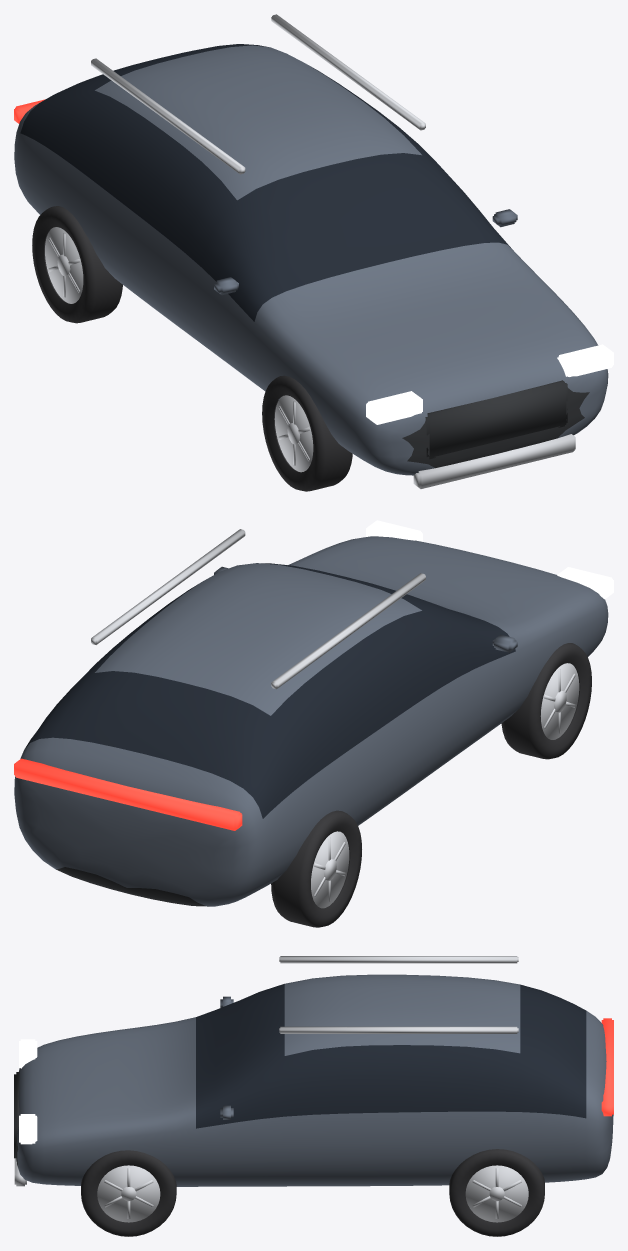
File: traffic_suv.glb
3 views of the same model, one above another, from view 1: azimuth 30°, elevation 25°; view 2: azimuth 150°, elevation 25°; view 3: azimuth 270°, elevation 25° (orthographic). The views are drawn at different scales.
Visible parts, largest first — view 1: SUVBody, SUVGrille, WheelRR_Tire, WheelFR_Tire, SUVSkidFront, WheelFR_Rim, WheelRR_Rim, RoofRailL, RoofRailR, HeadlightR, HeadlightL; view 2: SUVBody, WheelRR_Tire, WheelFR_Tire, TaillightBar, WheelFR_Rim, WheelRR_Rim, RoofRailR, RoofRailL, HeadlightR, HeadlightL; view 3: SUVBody, WheelRL_Tire, WheelFL_Tire, WheelFL_Rim, WheelRL_Rim, RoofRailL, RoofRailR, TaillightBar, HeadlightL, HeadlightR, SUVGrille.
Part boxes in pixels (box(x1,y1,x2,y2)): SUVBody: box(14, 44, 608, 475); SUVGrille: box(425, 380, 567, 459); WheelRR_Tire: box(32, 206, 122, 323); WheelFR_Tire: box(262, 375, 352, 491); SUVSkidFront: box(413, 434, 575, 488); WheelFR_Rim: box(274, 395, 313, 472); WheelRR_Rim: box(45, 227, 83, 303); RoofRailL: box(271, 14, 425, 130); RoofRailR: box(91, 58, 245, 174); HeadlightR: box(366, 391, 422, 424); HeadlightL: box(557, 344, 613, 376); SUVBody: box(14, 536, 608, 906); WheelRR_Tire: box(271, 810, 361, 927); WheelFR_Tire: box(501, 643, 591, 759); TaillightBar: box(14, 758, 242, 830); WheelFR_Rim: box(540, 663, 579, 739); WheelRR_Rim: box(311, 831, 349, 908); RoofRailR: box(271, 573, 425, 689); RoofRailL: box(91, 529, 245, 644); HeadlightR: box(557, 567, 613, 599); HeadlightL: box(366, 520, 422, 541); SUVBody: box(16, 974, 613, 1186); WheelRL_Tire: box(449, 1149, 544, 1236); WheelFL_Tire: box(81, 1150, 176, 1236); WheelFL_Rim: box(97, 1165, 160, 1222); WheelRL_Rim: box(465, 1165, 528, 1222); RoofRailL: box(279, 1026, 518, 1033); RoofRailR: box(279, 956, 518, 963); TaillightBar: box(601, 1018, 613, 1116); HeadlightL: box(19, 1114, 37, 1144); HeadlightR: box(19, 1039, 37, 1068); SUVGrille: box(14, 1072, 19, 1160).
Size of the model in its own units: 2.25 by 1.74 by 4.89.
